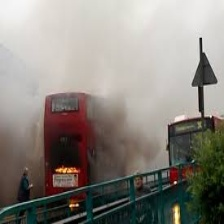smoke: (92, 78, 144, 171), (3, 69, 41, 168)
